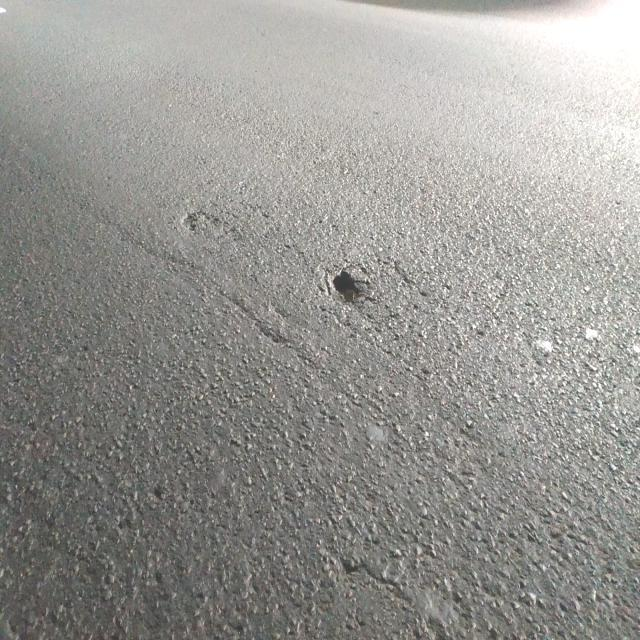Buraco: (320, 258, 380, 310)
